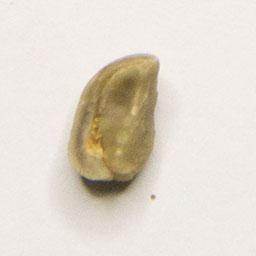defect: (63, 48, 163, 190)
